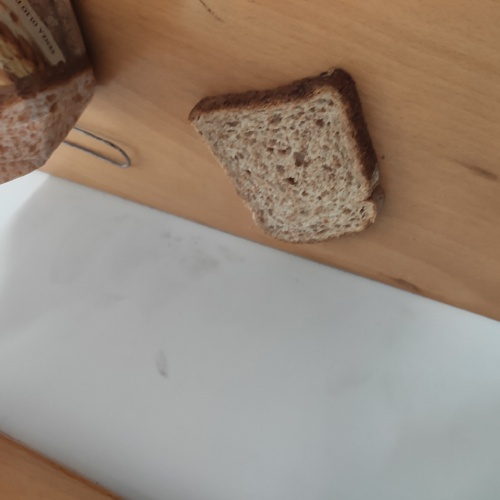pane: (187, 67, 387, 259)
